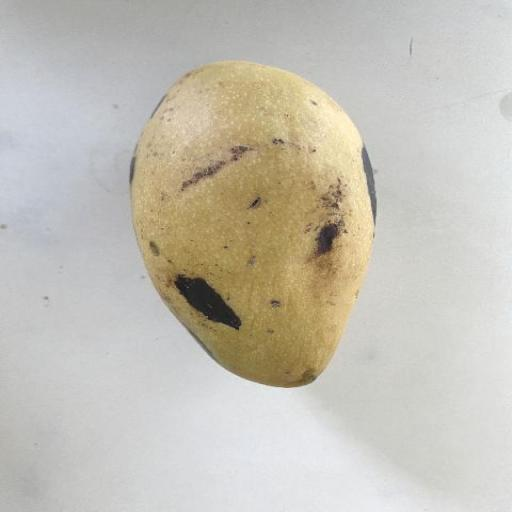mango-overripe: (98, 44, 393, 407)
